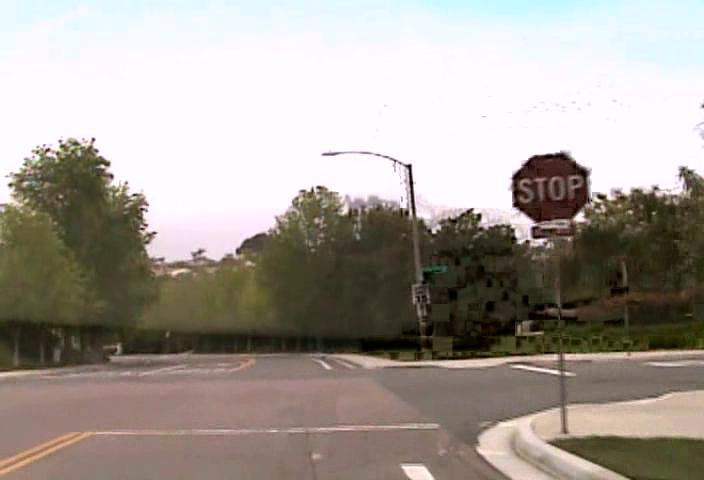stop: (511, 150, 590, 223)
